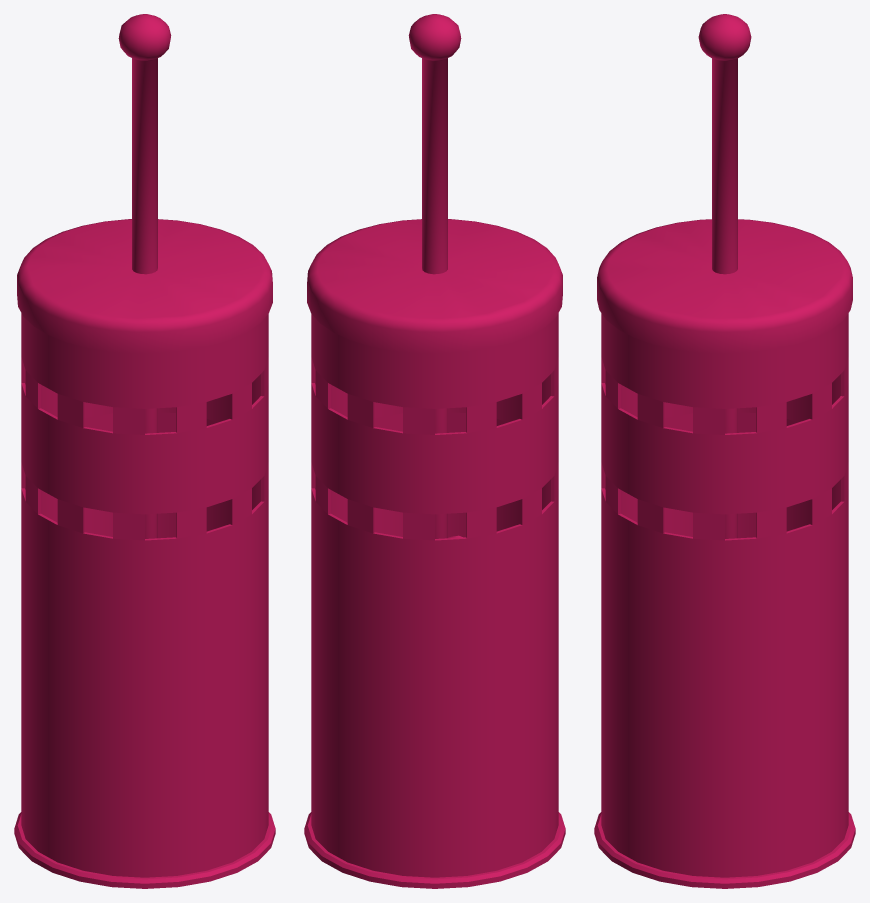
The model's file is Jorsch.fbx.
3 renders of one model, left to right at view 1: azimuth 30°, elevation 25°; view 2: azimuth 150°, elevation 25°; view 3: azimuth 270°, elevation 25°, orthographic.
Visible parts, largest first — view 1: Jorsch_1; view 2: Jorsch_1; view 3: Jorsch_1.
Boxes of the visible parts, x1,y1,x2,y2 form: Jorsch_1: (14,14,275,888); Jorsch_1: (304,14,565,888); Jorsch_1: (594,14,855,888).
Bounding box in the file's own units: 12.69 × 43.84 × 12.69.
